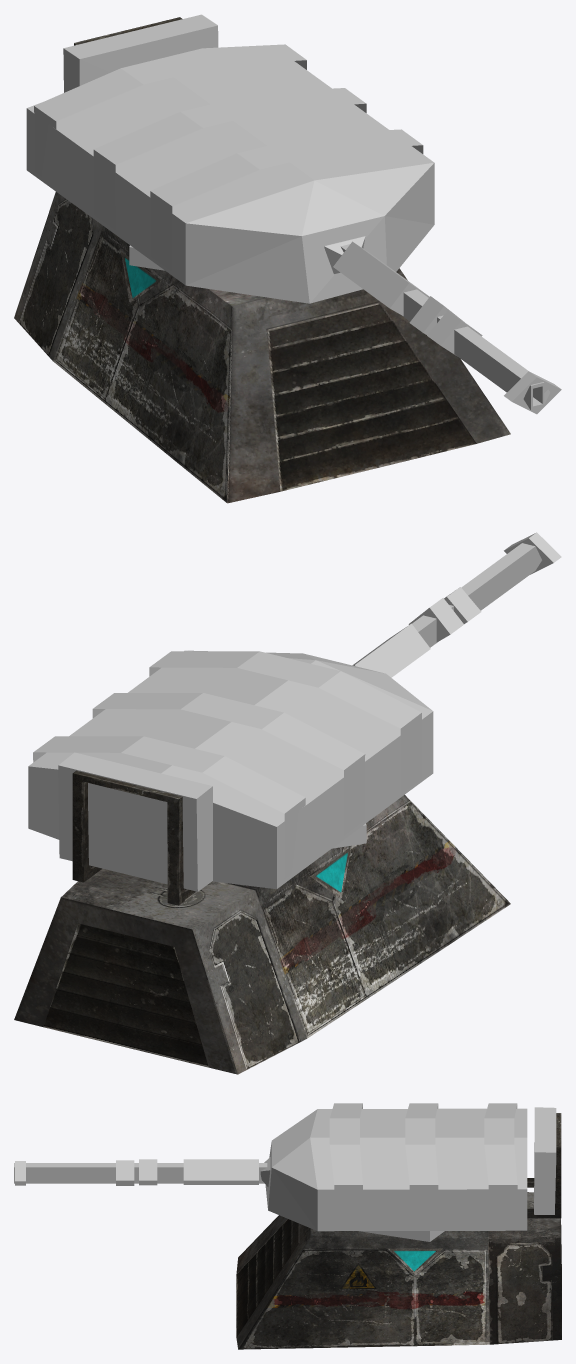
The model's file is Canon_flamethrower_lod2.dae.
3 renders of one model, top to bottom at view 1: azimuth 30°, elevation 25°; view 2: azimuth 150°, elevation 25°; view 3: azimuth 270°, elevation 25°, orthographic. The views are drawn at different scales.
Parts seen in each view (by area): view 1: Mesh_Object_2, Mesh_Object, Mesh_Object_3; view 2: Mesh_Object, Mesh_Object_2, Mesh_Object_3; view 3: Mesh_Object, Mesh_Object_2, Mesh_Object_3.
Part boxes in pixels (<box>): Mesh_Object_2: <box>26,14,434,303</box>; Mesh_Object: <box>14,17,510,503</box>; Mesh_Object_3: <box>324,236,561,414</box>; Mesh_Object: <box>14,770,510,1074</box>; Mesh_Object_2: <box>28,650,433,891</box>; Mesh_Object_3: <box>352,532,561,677</box>; Mesh_Object: <box>236,1113,561,1349</box>; Mesh_Object_2: <box>265,1103,556,1241</box>; Mesh_Object_3: <box>14,1157,270,1186</box>.
Bounding box in the file's own units: 1.49 × 1.32 × 3.75.
